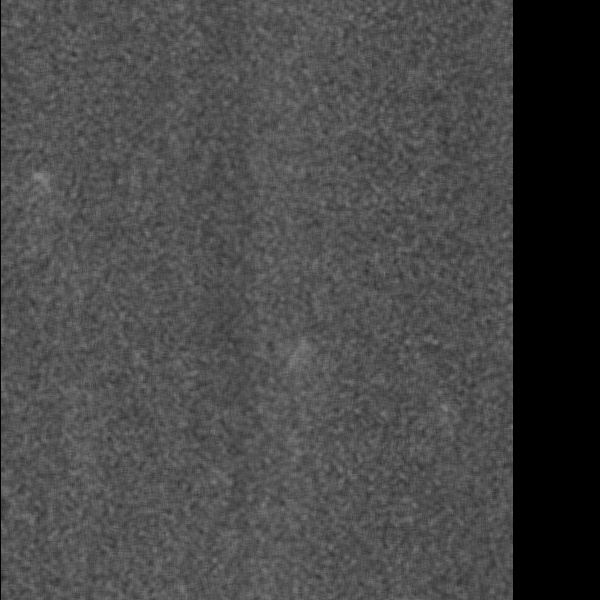spark: (263, 343, 343, 378), (434, 399, 454, 439), (28, 171, 49, 189)
